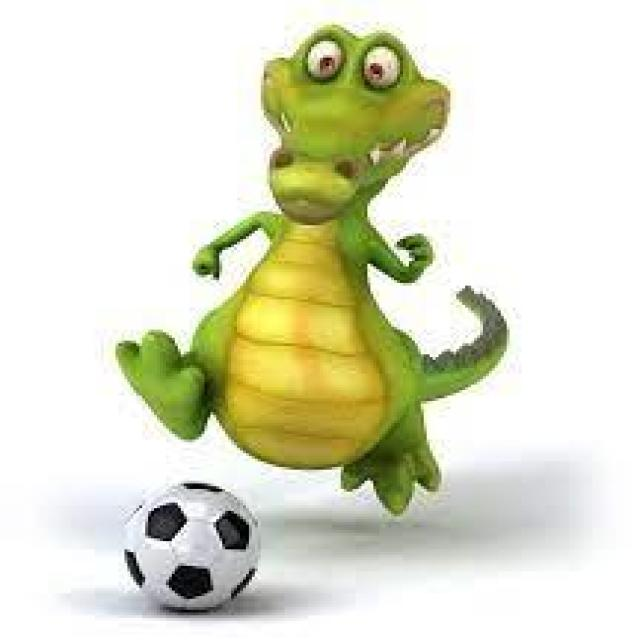Soccer Ball: (127, 478, 258, 615)
